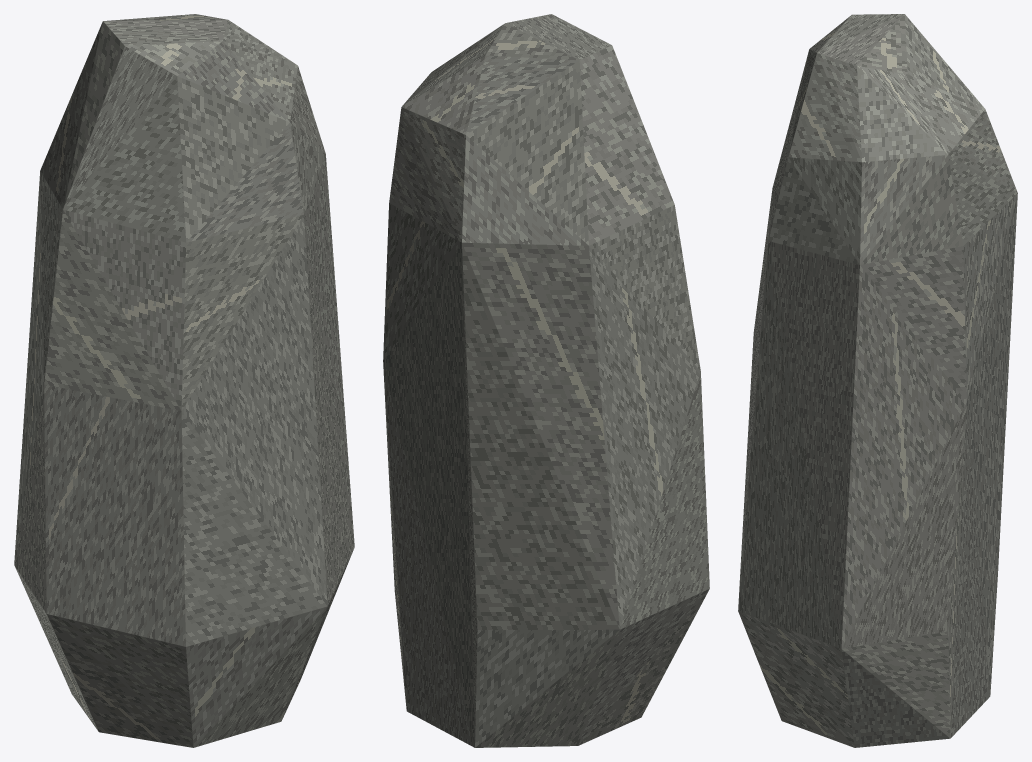
The model's file is f_boulder_large.glb.
3 views of the same model, side by side, from view 1: azimuth 30°, elevation 25°; view 2: azimuth 150°, elevation 25°; view 3: azimuth 270°, elevation 25° (orthographic). The views are drawn at different scales.
Parts seen in each view (by area): view 1: block_weathered rock; view 2: block_weathered rock; view 3: block_weathered rock.
Part boxes in pixels (x1,y1,x2,y2): block_weathered rock: [14, 14, 354, 747]; block_weathered rock: [383, 14, 709, 747]; block_weathered rock: [738, 14, 1017, 747].
Size of the model in its own units: 1.05 by 2.19 by 0.8506.
1 material, 1 textured.
